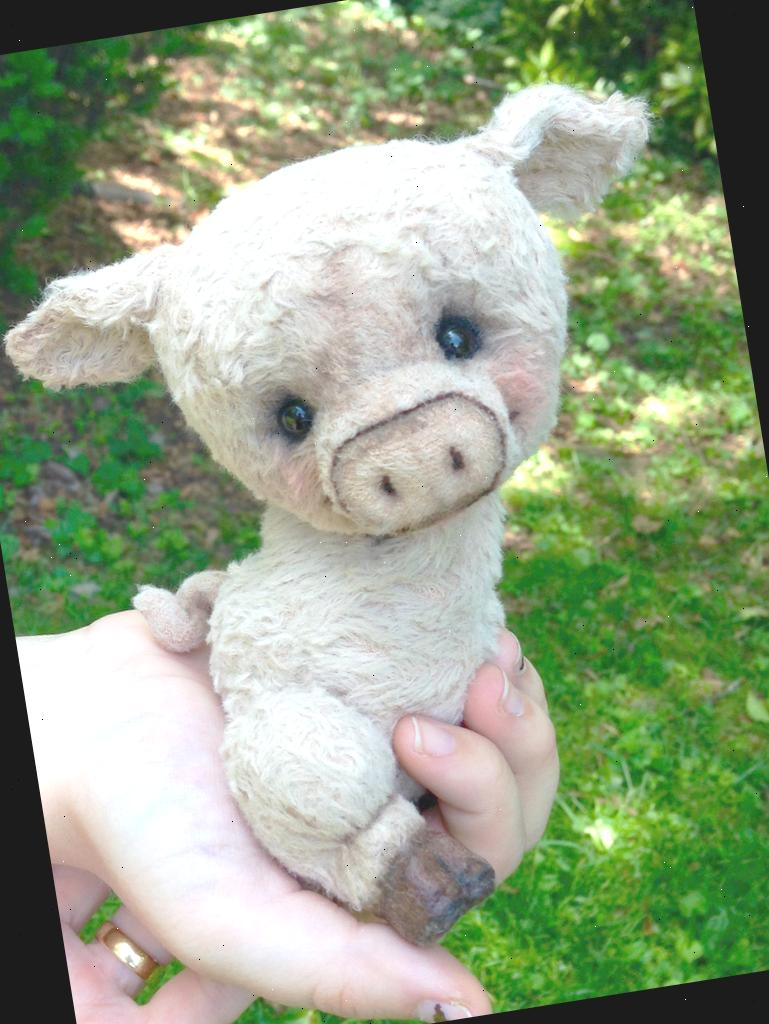Sheep: (0, 71, 769, 997)
